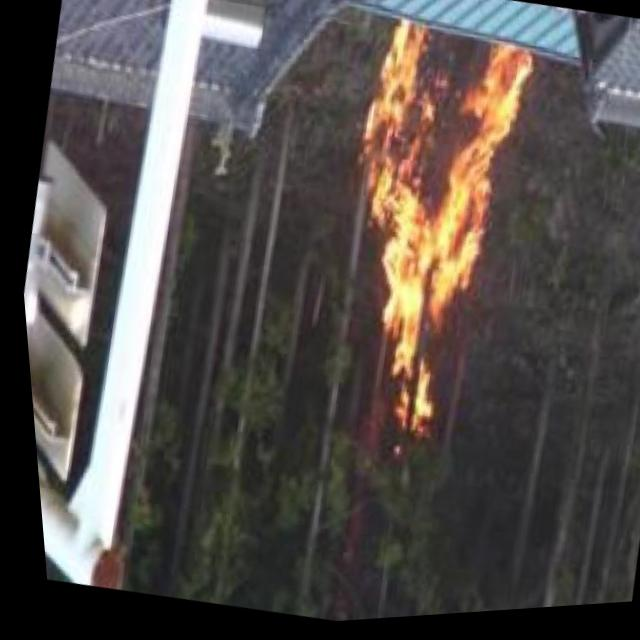Fire: (290, 9, 559, 443)
